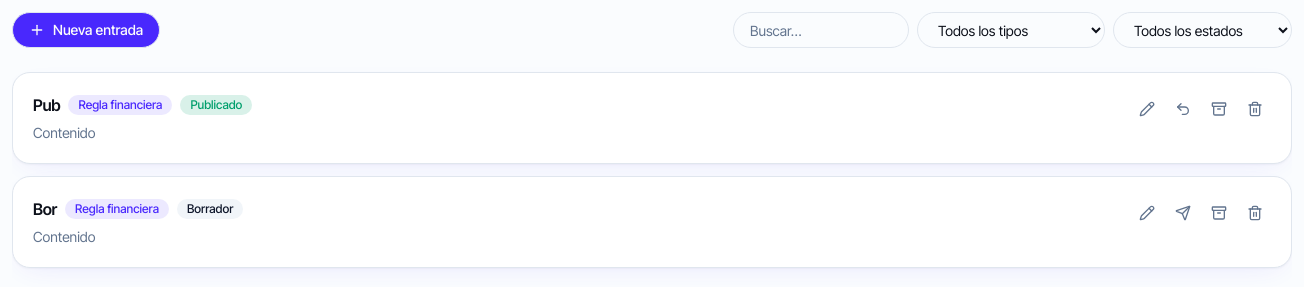
Test: ListaContexto › filtra por estado
Select "Publicado" in the dropdown named "Filtrar por estado": (1202, 30) [1113,12,1292,48]
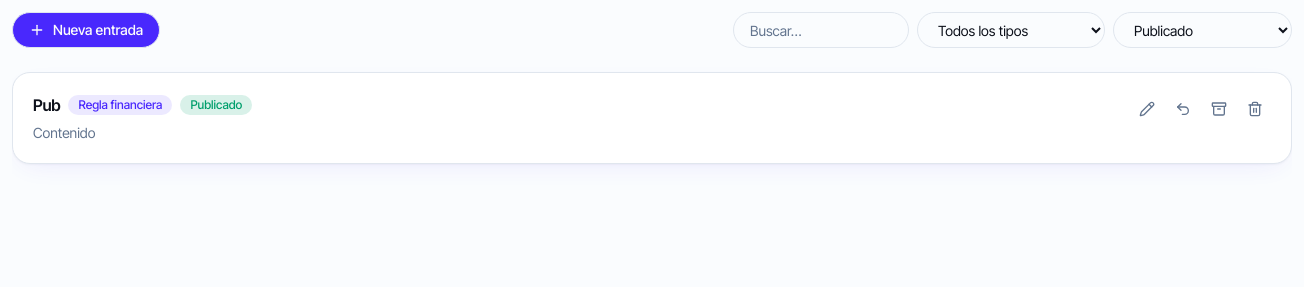
Expected: the heading "Pub" is shown, [33,93,60,117]
Expected: the heading "Bor" is gone
